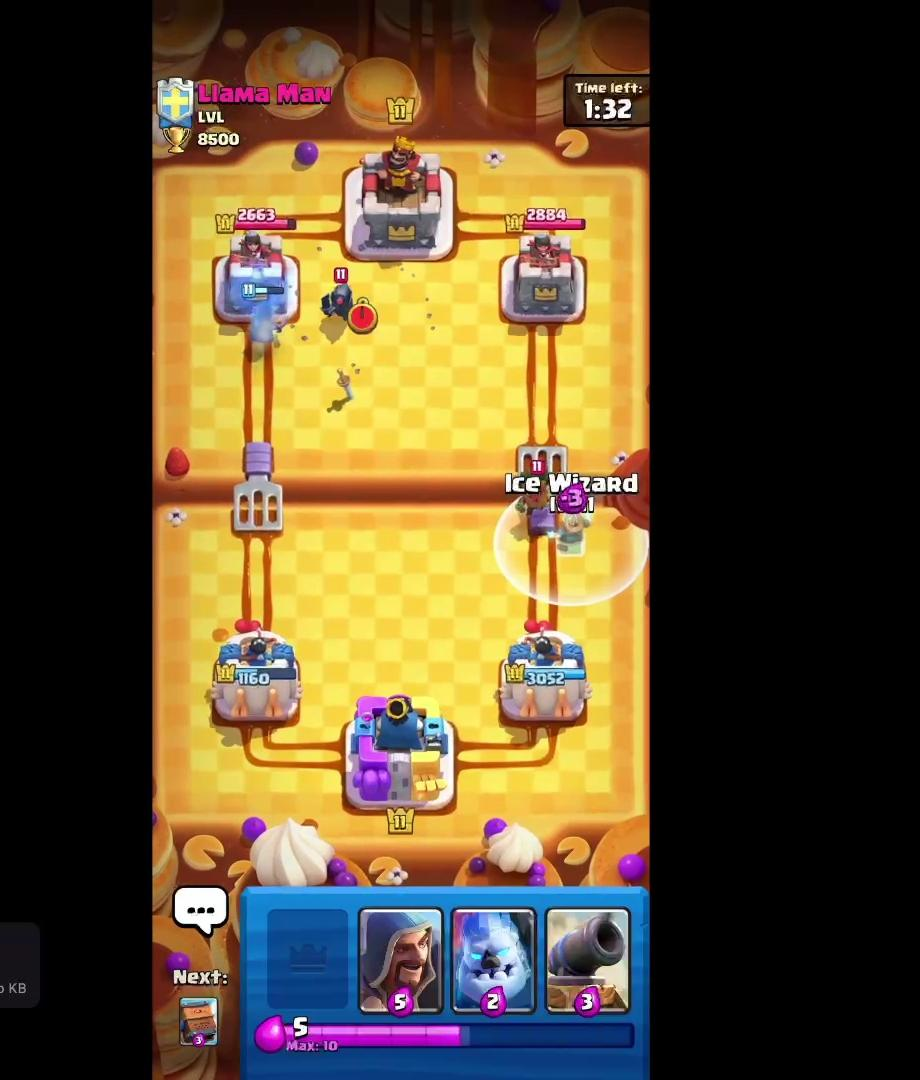Mini Pekka: (315, 259, 354, 329)
